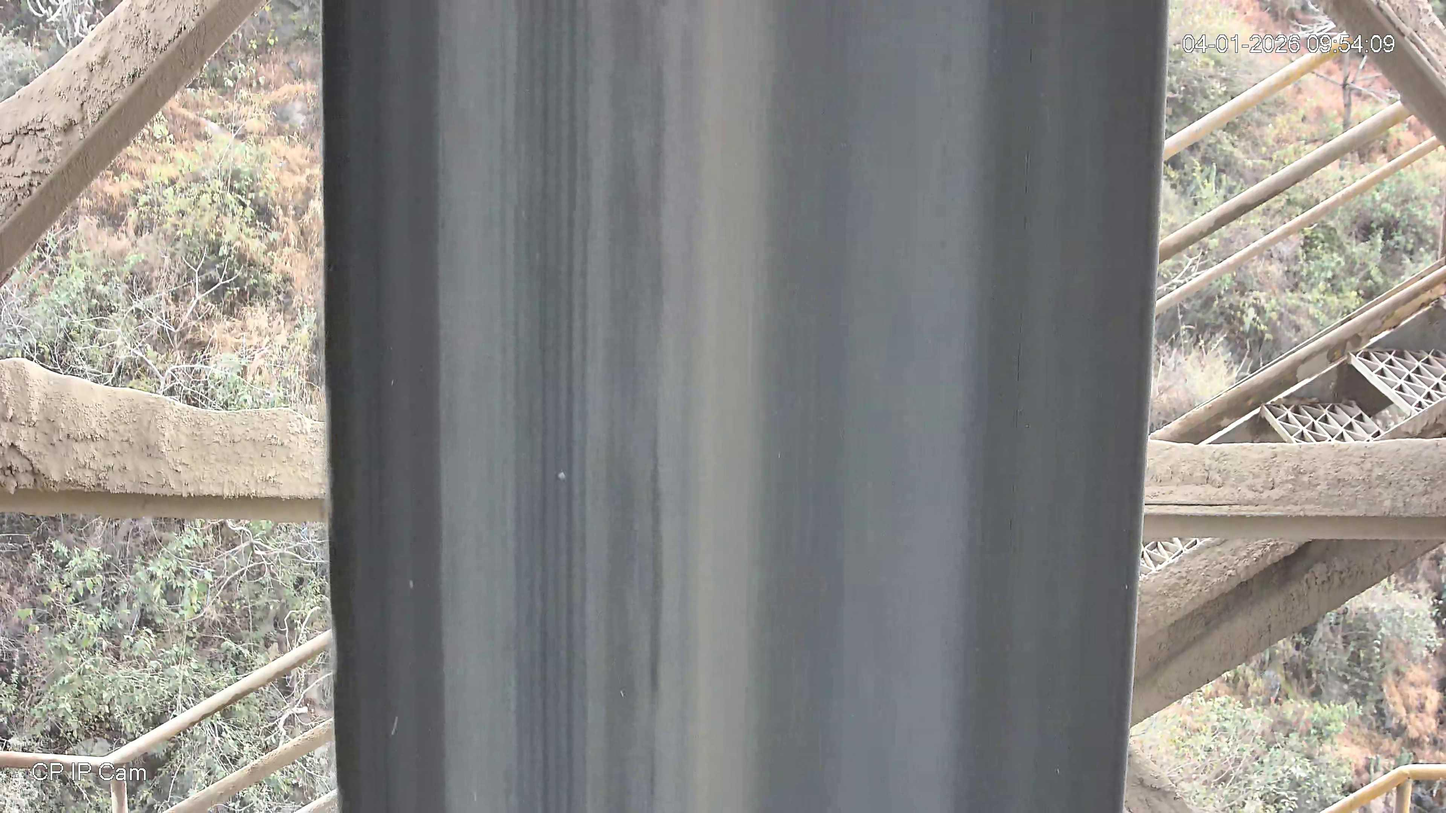belt_roi: (318, 0, 1171, 813)
